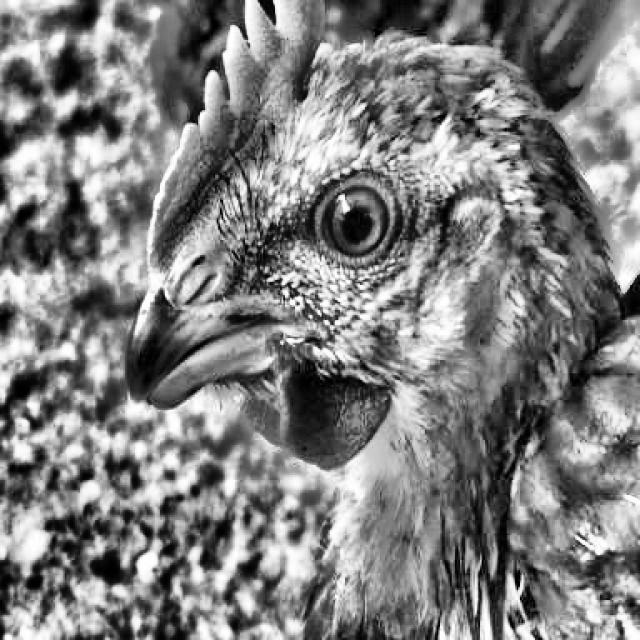Healthy: (306, 142, 456, 266)
